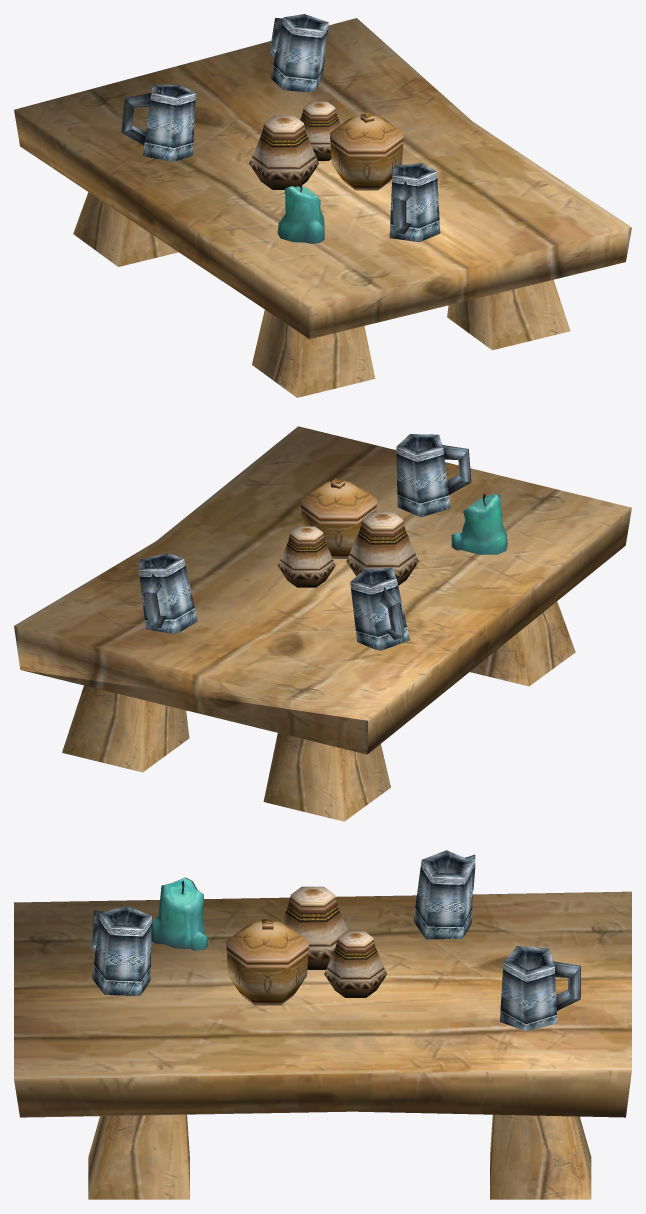
File: comedor1.obj
3 views of the same model, one above another, from view 1: azimuth 30°, elevation 25°; view 2: azimuth 150°, elevation 25°; view 3: azimuth 270°, elevation 25° (orthographic). The views are drawn at different scales.
Visible parts, largest first — view 1: comedor4:Geoset0pasted__group3comedor1; view 2: comedor4:Geoset0pasted__group3comedor1; view 3: comedor4:Geoset0pasted__group3comedor1.
Part boxes in pixels (bbox=[...]): comedor4:Geoset0pasted__group3comedor1: bbox=[14, 14, 631, 397]; comedor4:Geoset0pasted__group3comedor1: bbox=[14, 426, 631, 821]; comedor4:Geoset0pasted__group3comedor1: bbox=[14, 850, 631, 1199].
Bounding box in the file's own units: 1.29 × 0.6735 × 1.79.
8 materials, 8 textured.
